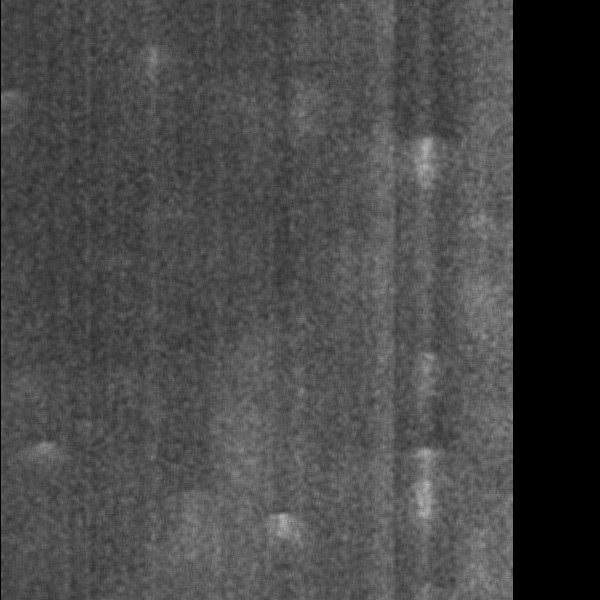spark: (406, 443, 441, 571), (411, 135, 438, 236), (264, 506, 297, 578), (24, 436, 66, 481), (133, 38, 168, 89)
